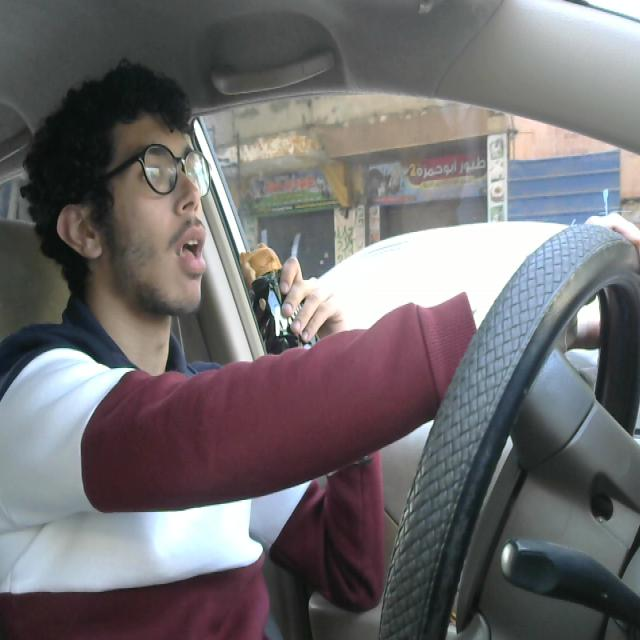eating: (241, 236, 335, 439)
